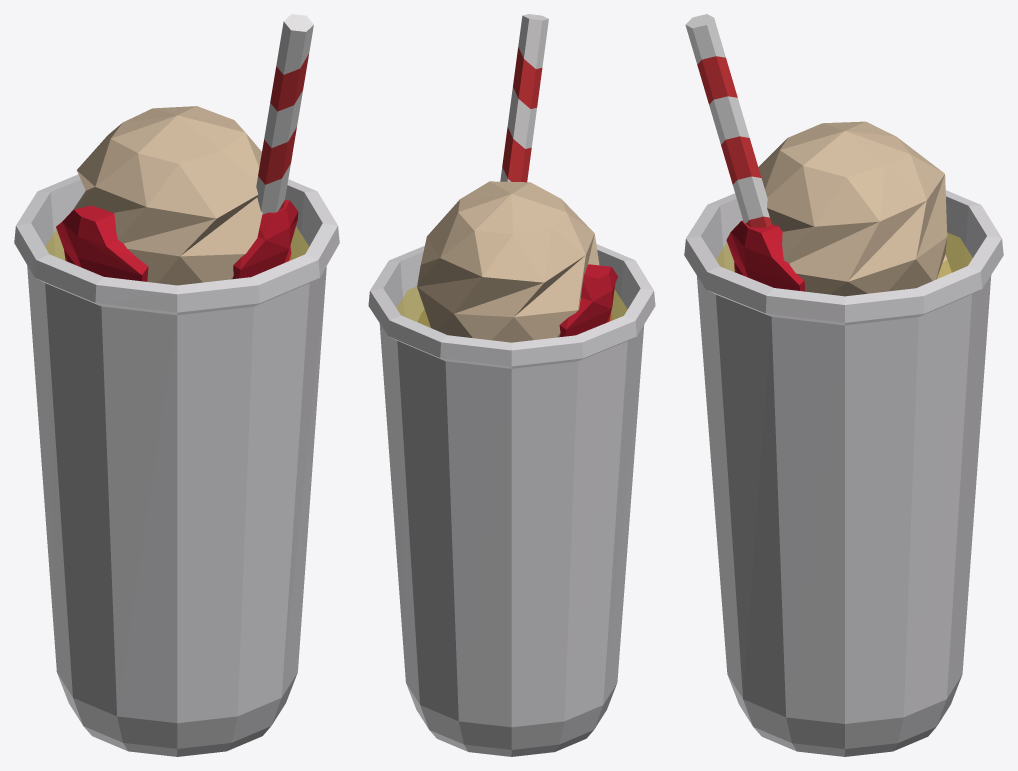
Rendered from terremoto-ffa776.glb.
3 renders of one model, left to right at view 1: azimuth 30°, elevation 25°; view 2: azimuth 150°, elevation 25°; view 3: azimuth 270°, elevation 25°, orthographic. The views are drawn at different scales.
Parts seen in each view (by area): view 1: cup, scoop, straw-mesh, wine; view 2: cup, scoop, straw-mesh, wine; view 3: cup, scoop, straw-mesh, wine.
Part boxes in pixels (x1,y1,x2,y2): cup: (14,174,339,756); scoop: (56,106,298,285); straw-mesh: (256,14,313,214); wine: (45,226,308,260); cup: (368,244,655,756); scoop: (417,181,618,342); straw-mesh: (500,14,548,182); wine: (396,286,627,327); cup: (684,190,1003,756); scoop: (726,121,951,296); straw-mesh: (685,14,771,227); wine: (716,232,972,278).
Bounding box in the file's own units: 0.0966 × 0.2402 × 0.0964.
